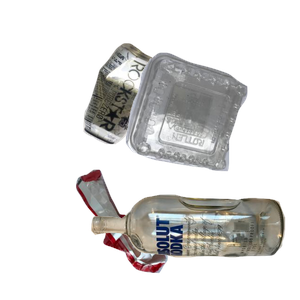glass: (88, 192, 300, 300)
metal: (81, 41, 234, 178)
plastic: (123, 50, 300, 214)
trash: (74, 167, 235, 300)
